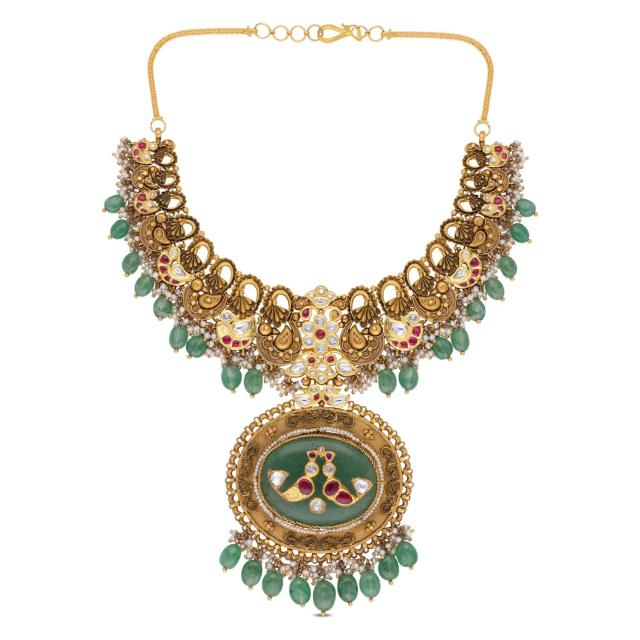missing gem: (219, 325, 228, 336), (331, 309, 338, 318)
